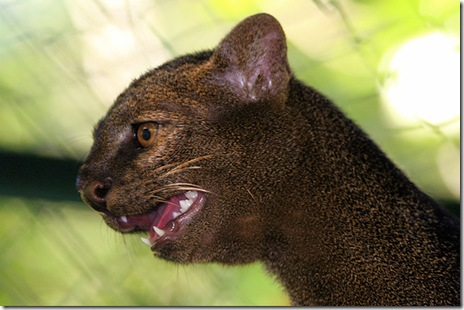Jaguarundi: (69, 8, 431, 293)
